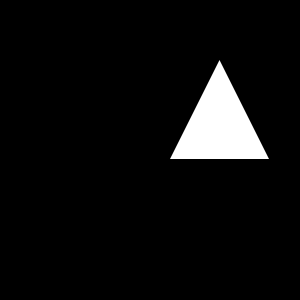triangle: (170, 60, 269, 159)
